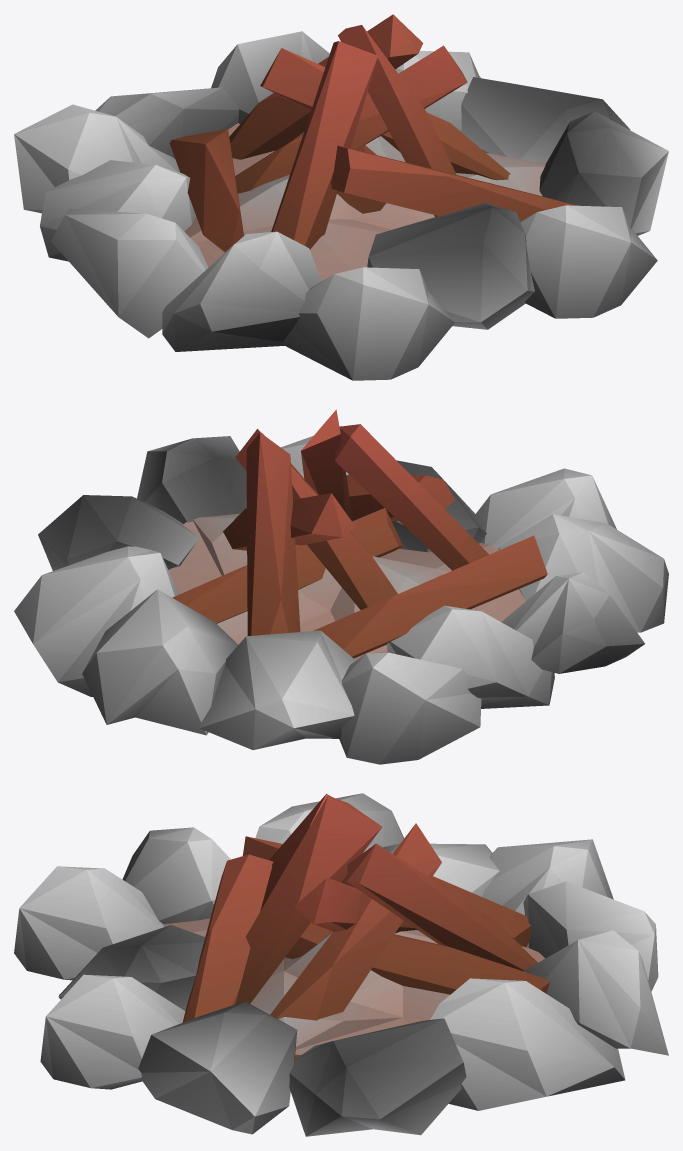
The picture shows the model from 3 angles, top to bottom: view 1: azimuth 30°, elevation 25°; view 2: azimuth 150°, elevation 25°; view 3: azimuth 270°, elevation 25°; orthographic projection. The views are drawn at different scales.
Visible parts, largest first — view 1: Campfire; view 2: Campfire; view 3: Campfire.
Part boxes in pixels (x1=…): Campfire: x1=14, y1=14, x2=668, y2=380; Campfire: x1=14, y1=409, x2=668, y2=764; Campfire: x1=14, y1=793, x2=668, y2=1136.
Bounding box in the file's own units: 2.29 × 0.8763 × 2.2.
Materials: 1 (1 with a texture image).
